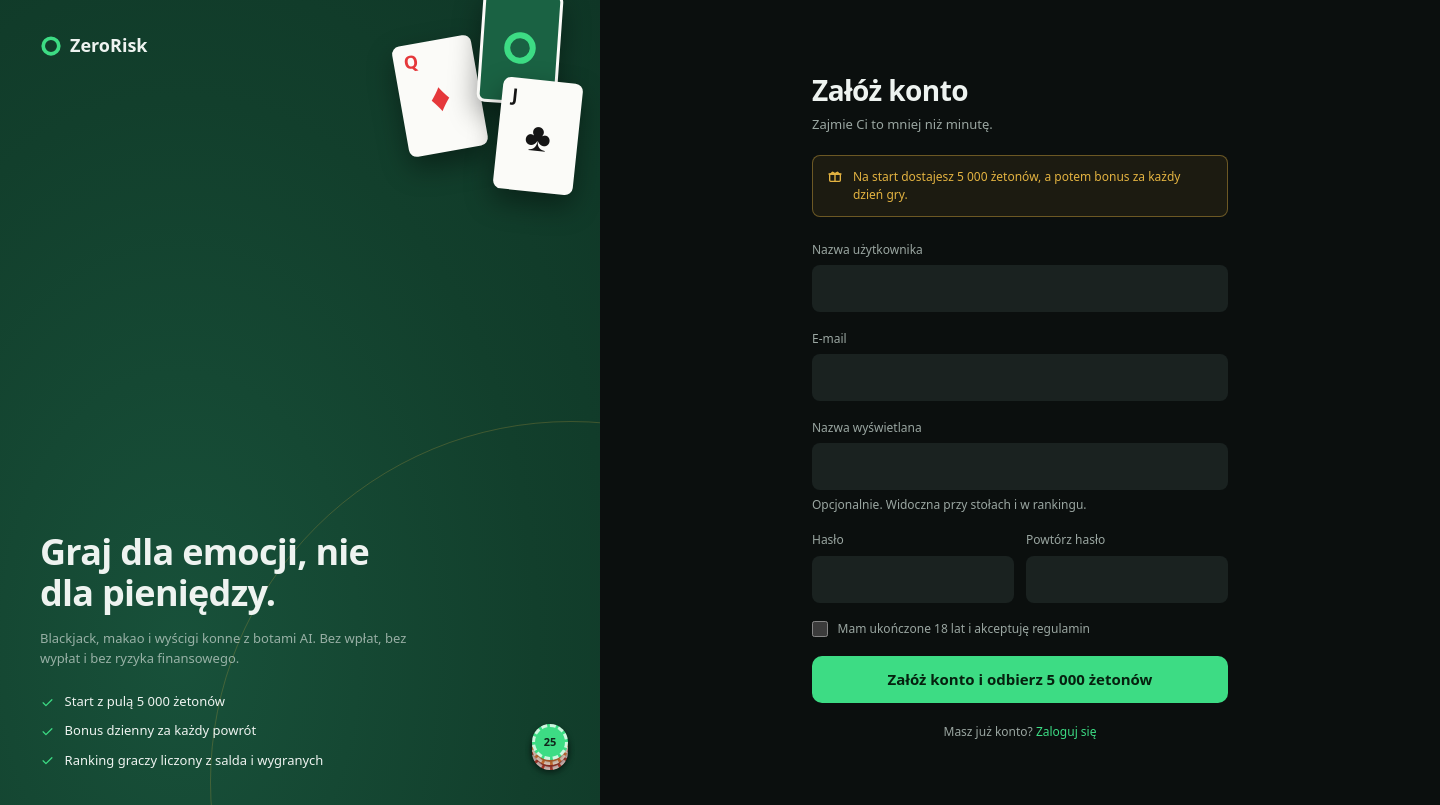
it: RegisterPage › hides a field error once the player edits the field
expect the heading "Załóż konto" is shown: met, box [812,71,968,109]
Click the button "Załóż konto i odbierz 5 000 żetonów" at (1020, 679), box [812,656,1228,703]
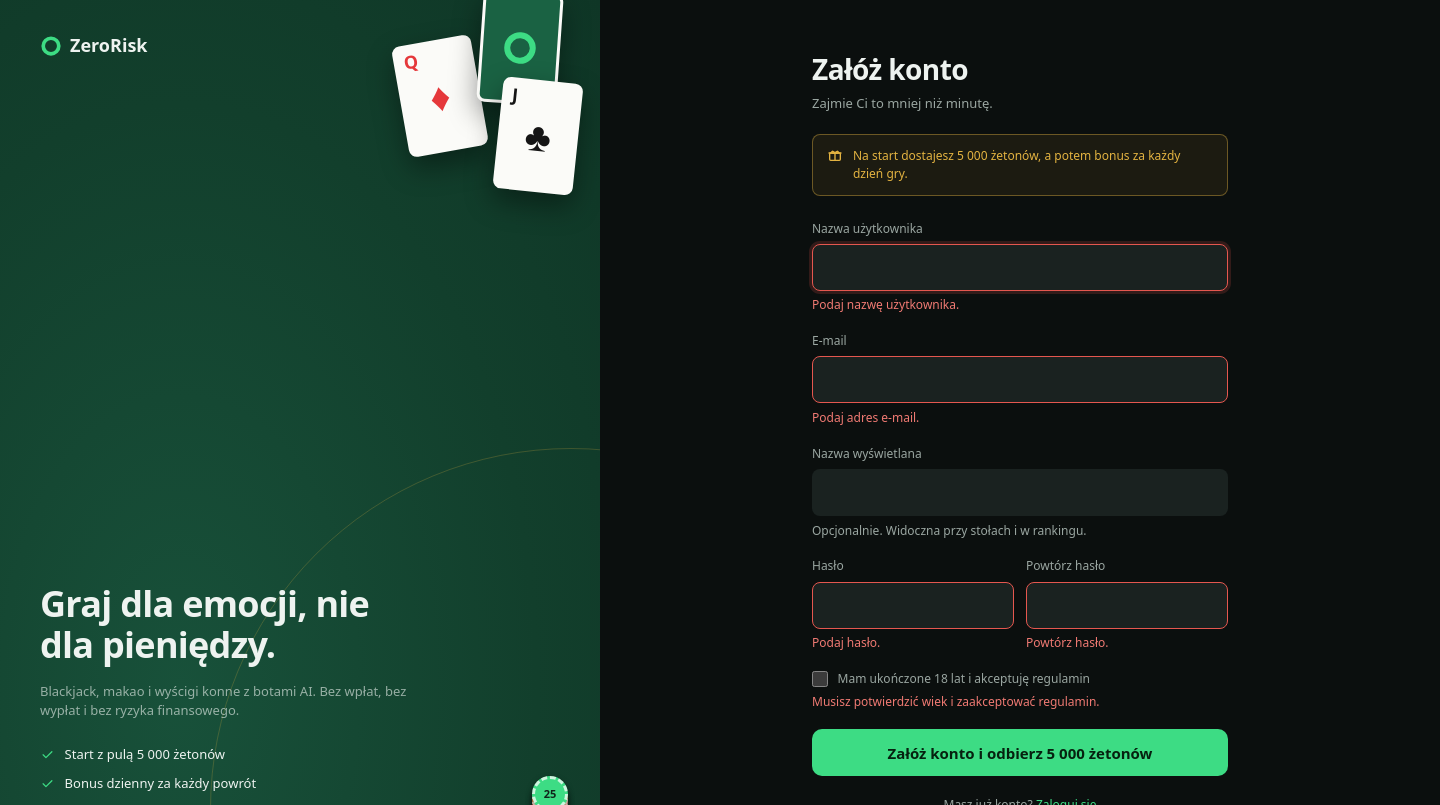
Type "k" into the field labelled "Nazwa użytkownika" at (1020, 267), box [812,244,1228,291]
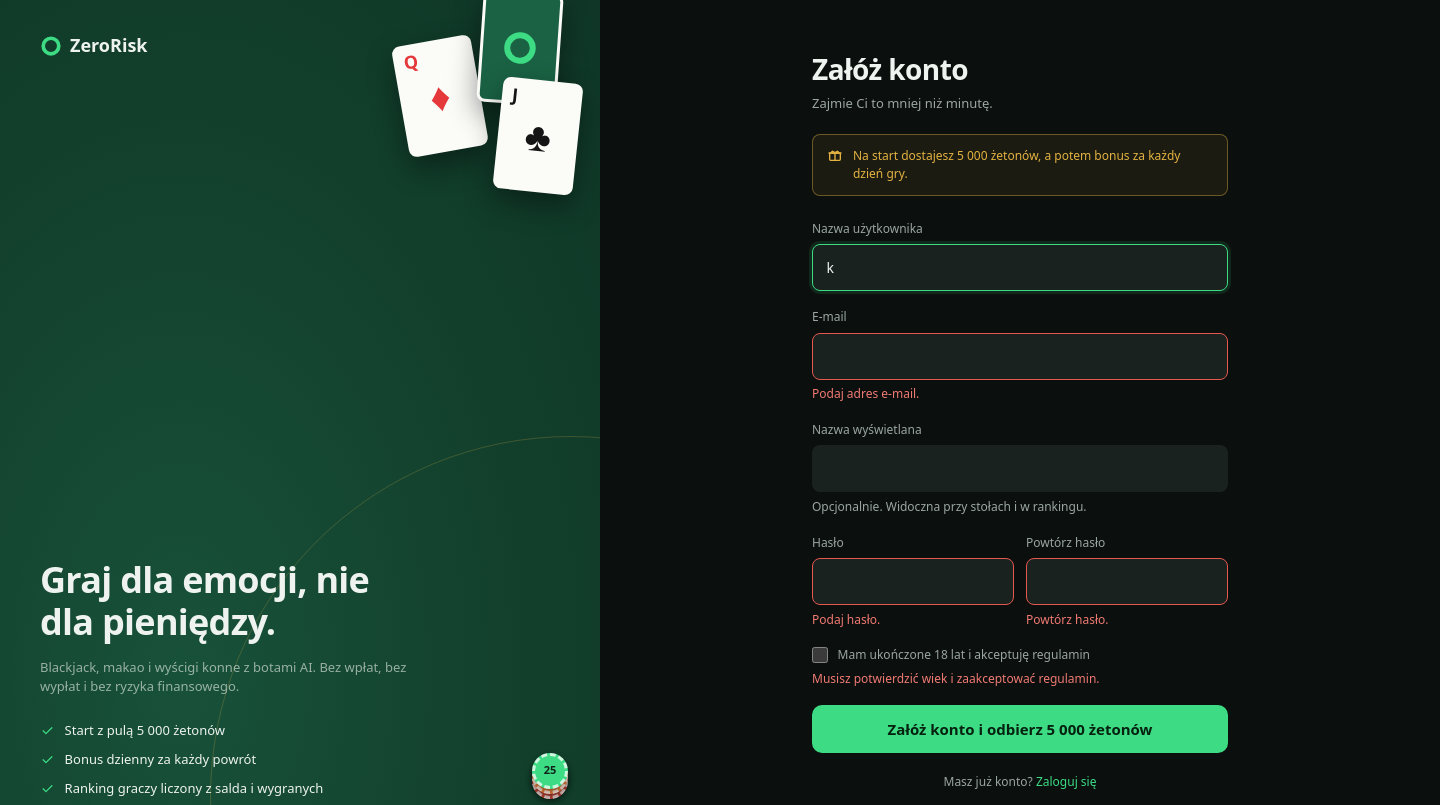
expect the text "Podaj nazwę użytkownika." is gone: met
